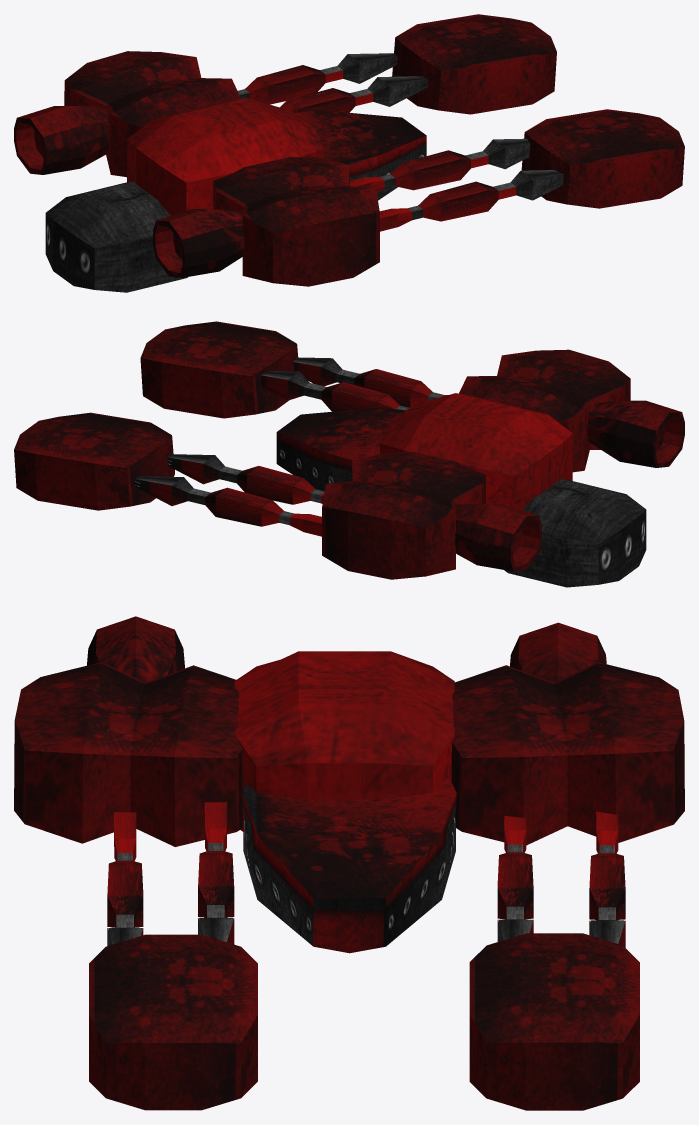
3 renders of one model, top to bottom at view 1: azimuth 30°, elevation 25°; view 2: azimuth 150°, elevation 25°; view 3: azimuth 270°, elevation 25°, orthographic. The views are drawn at different scales.
Parts seen in each view (by area): view 1: body1.008, body1, body1.003, body1.001, engin2, body1.002, body1.006, body3, gun.001, gun.000, gun.002, gun.003; view 2: body1.006, body1, body1.003, body1.001, engin2, body1.002, body1.008, body3, gun.002, gun.003, gun.001, gun.000; view 3: body1.006, body1.008, body1, body1.003, body3, body1.001, engin2, gun.000, gun.002, gun.001, gun.003.
Boxes of the visible parts, x1=… form: body1.008: x1=213, y1=156, x2=379, y2=286; body1: x1=127, y1=98, x2=323, y2=215; body1.003: x1=392, y1=14, x2=556, y2=114; body1.001: x1=521, y1=109, x2=684, y2=208; engin2: x1=14, y1=106, x2=244, y2=277; body1.002: x1=45, y1=181, x2=187, y2=292; body1.006: x1=64, y1=51, x2=240, y2=177; body3: x1=294, y1=110, x2=426, y2=200; gun.001: x1=379, y1=170, x2=563, y2=231; gun.000: x1=349, y1=138, x2=530, y2=192; gun.002: x1=238, y1=53, x2=397, y2=104; gun.003: x1=280, y1=76, x2=427, y2=113; body1.006: x1=322, y1=452, x2=485, y2=579; body1: x1=380, y1=393, x2=572, y2=509; body1.003: x1=14, y1=412, x2=174, y2=510; body1.001: x1=140, y1=321, x2=297, y2=418; engin2: x1=455, y1=400, x2=684, y2=571; body1.002: x1=504, y1=479, x2=646, y2=587; body1.008: x1=459, y1=349, x2=630, y2=472; body3: x1=276, y1=407, x2=405, y2=491; gun.002: x1=135, y1=476, x2=321, y2=536; gun.003: x1=167, y1=454, x2=324, y2=504; gun.001: x1=293, y1=357, x2=447, y2=407; gun.000: x1=260, y1=370, x2=409, y2=411; body1.006: x1=451, y1=662, x2=684, y2=845; body1.008: x1=14, y1=662, x2=242, y2=846; body1: x1=234, y1=651, x2=454, y2=831; body1.003: x1=469, y1=933, x2=639, y2=1110; body3: x1=242, y1=777, x2=456, y2=953; body1.001: x1=89, y1=934, x2=257, y2=1110; engin2: x1=87, y1=616, x2=606, y2=682; gun.000: x1=198, y1=802, x2=234, y2=944; gun.002: x1=589, y1=811, x2=625, y2=947; gun.001: x1=107, y1=812, x2=143, y2=945; gun.003: x1=497, y1=815, x2=533, y2=941.
Bounding box in the file's own units: 506 × 115 × 364.
